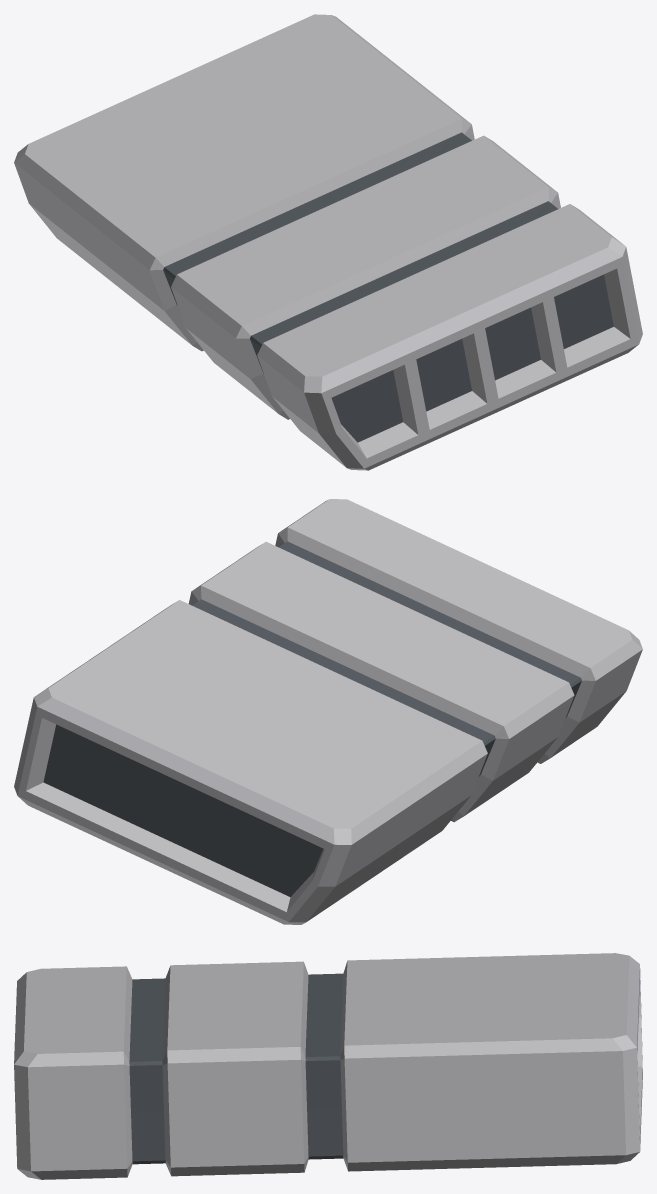
File: Dropship_01_Artillery_Left.fbx
The picture shows the model from 3 angles, top to bottom: view 1: azimuth 30°, elevation 25°; view 2: azimuth 150°, elevation 25°; view 3: azimuth 270°, elevation 25°; orthographic projection. The views are drawn at different scales.
Visible parts, largest first — view 1: Dropship_01_Artillery_Left; view 2: Dropship_01_Artillery_Left; view 3: Dropship_01_Artillery_Left.
Part boxes in pixels (left/top/right/bottom): Dropship_01_Artillery_Left: left=14, top=14, right=642, bottom=470; Dropship_01_Artillery_Left: left=14, top=499, right=642, bottom=924; Dropship_01_Artillery_Left: left=14, top=953, right=642, bottom=1179.
Bounding box in the file's own units: 362 × 192 × 568.
1 material, 1 textured.
